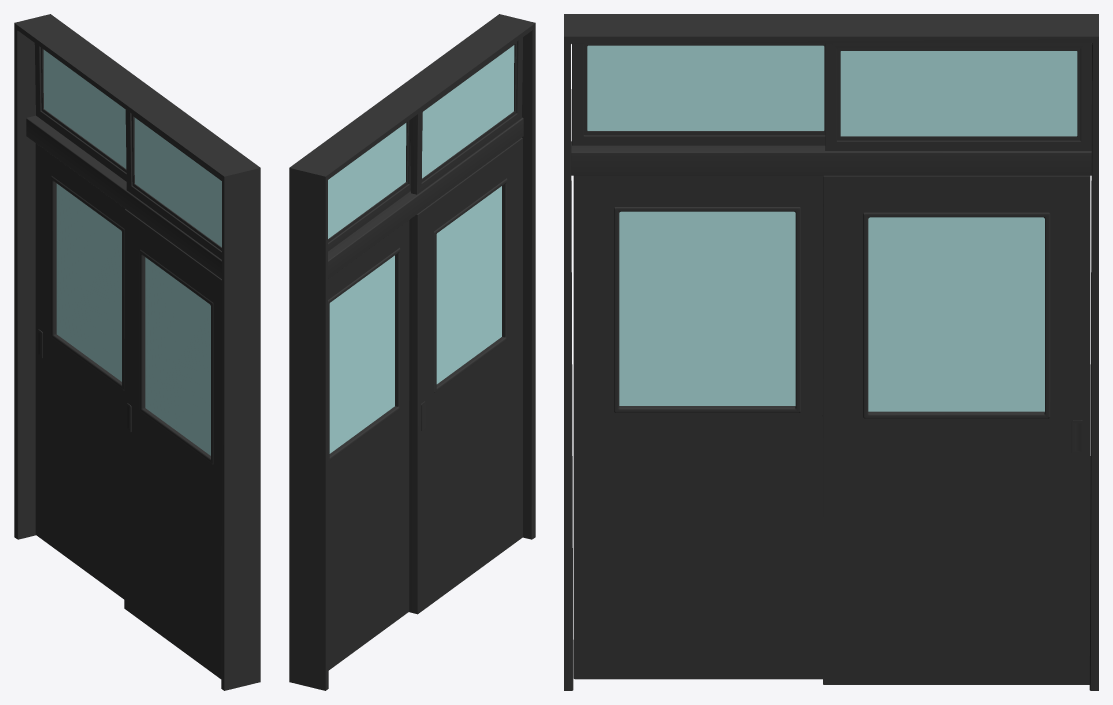
Rendered from SM_Partition_01.fbx.
3 views of the same model, side by side, from view 1: azimuth 30°, elevation 25°; view 2: azimuth 150°, elevation 25°; view 3: azimuth 270°, elevation 25° (orthographic). The views are drawn at different scales.
Visible parts, largest first — view 1: SM_Partition_01_LOD0; view 2: SM_Partition_01_LOD0; view 3: SM_Partition_01_LOD0.
Boxes of the visible parts, x1=… form: SM_Partition_01_LOD0: x1=14, y1=14, x2=260, y2=690; SM_Partition_01_LOD0: x1=289, y1=14, x2=535, y2=690; SM_Partition_01_LOD0: x1=564, y1=14, x2=1098, y2=690.
Size of the model in its own units: 20 by 200 by 270.
